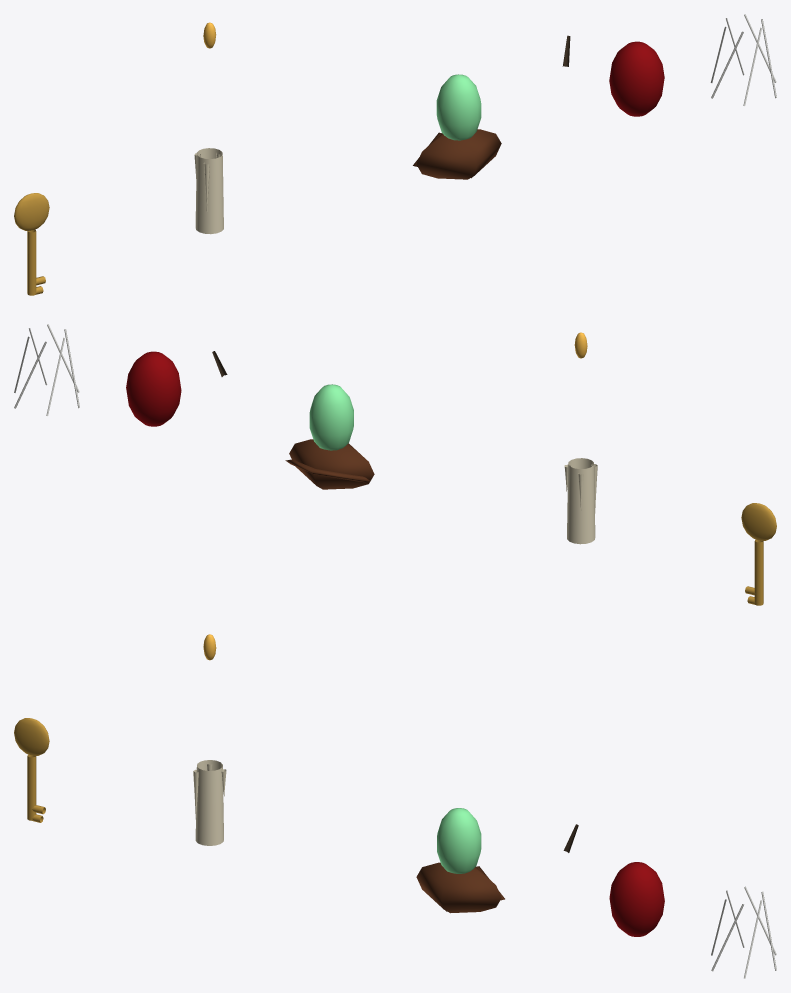
File: c_props.glb
3 views of the same model, one above another, from view 1: azimuth 30°, elevation 25°; view 2: azimuth 150°, elevation 25°; view 3: azimuth 330°, elevation 25° (orthographic).
Visible parts, largest first — view 1: egg, musicbox, fruit_glow, candle, key, egg_web; view 2: egg, musicbox, candle, fruit_glow, key, egg_web; view 3: egg, musicbox, candle, fruit_glow, key, egg_web.
Part boxes in pixels (bbox=[...]): egg: bbox=[609, 41, 664, 116]; musicbox: bbox=[413, 129, 501, 179]; fruit_glow: bbox=[436, 74, 481, 140]; candle: bbox=[194, 148, 223, 234]; key: bbox=[14, 193, 49, 295]; egg_web: bbox=[710, 14, 776, 105]; egg: bbox=[126, 351, 181, 426]; musicbox: bbox=[285, 439, 374, 489]; candle: bbox=[564, 458, 597, 544]; fruit_glow: bbox=[309, 384, 353, 450]; key: bbox=[741, 503, 776, 605]; egg_web: bbox=[14, 324, 79, 415]; egg: bbox=[609, 862, 664, 936]; musicbox: bbox=[416, 862, 504, 913]; candle: bbox=[193, 760, 226, 845]; fruit_glow: bbox=[437, 808, 481, 873]; key: bbox=[14, 718, 49, 822]; egg_web: bbox=[711, 886, 776, 978].
Bounding box in the file's own units: 2.14 × 0.615 × 0.183.
